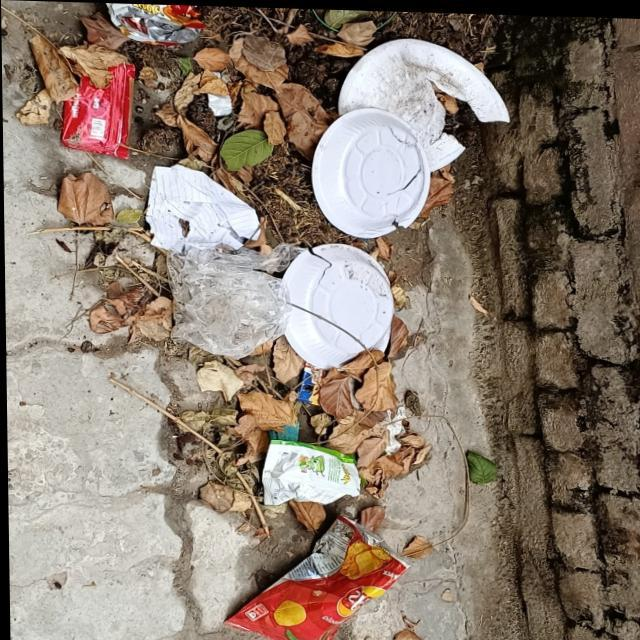food: (130, 158, 274, 256)
leaf: (277, 239, 438, 385), (302, 104, 458, 234)
metal: (151, 228, 291, 378)
wood: (217, 511, 410, 640), (332, 34, 511, 165), (47, 15, 135, 168), (227, 438, 381, 512), (96, 2, 214, 46)
